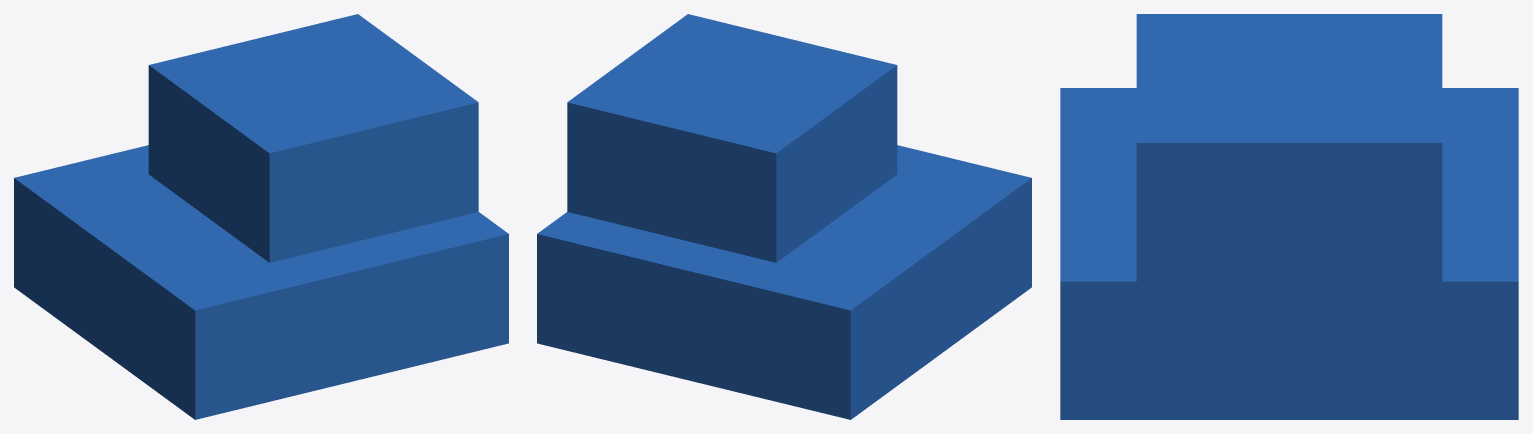
File: diamond-fragment.glb
The picture shows the model from 3 angles, left to right: view 1: azimuth 30°, elevation 25°; view 2: azimuth 150°, elevation 25°; view 3: azimuth 270°, elevation 25°; orthographic projection. The views are drawn at different scales.
Parts seen in each view (by area): view 1: generated(Clone); view 2: generated(Clone); view 3: generated(Clone).
Part boxes in pixels (x1,y1,x2,y2): generated(Clone): [14, 14, 508, 419]; generated(Clone): [537, 14, 1031, 419]; generated(Clone): [1060, 14, 1518, 419].
Bounding box in the file's own units: 3 × 2 × 3.
Materials: 1 (1 with a texture image).
